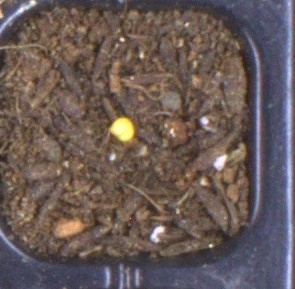chilli seed: (109, 117, 134, 142)
